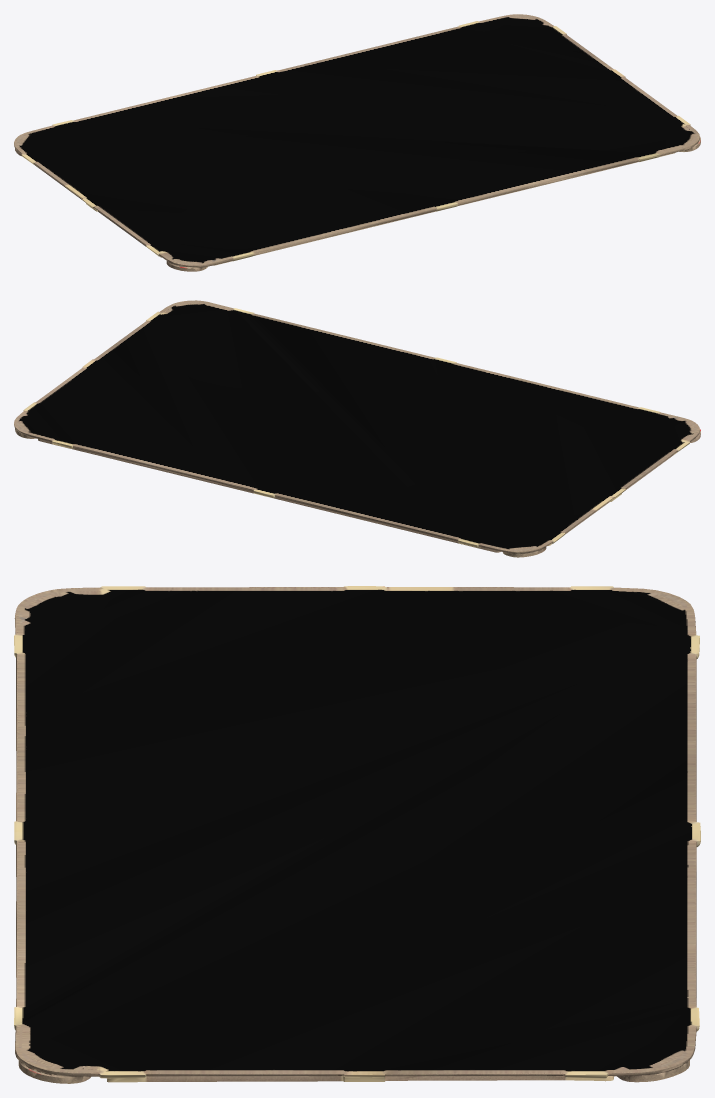
Rendered from 7-roof.fbx.
The picture shows the model from 3 angles, top to bottom: view 1: azimuth 30°, elevation 25°; view 2: azimuth 150°, elevation 25°; view 3: azimuth 270°, elevation 25°; orthographic projection. The views are drawn at different scales.
Parts seen in each view (by area): view 1: roof; view 2: roof; view 3: roof.
Boxes of the visible parts, left/top/right/bottom form: roof: left=14, top=14, right=700, bottom=271; roof: left=14, top=300, right=700, bottom=557; roof: left=14, top=586, right=700, bottom=1083.
Size of the model in its own units: 15014 by 175 by 8917.
1 material, 1 textured.
